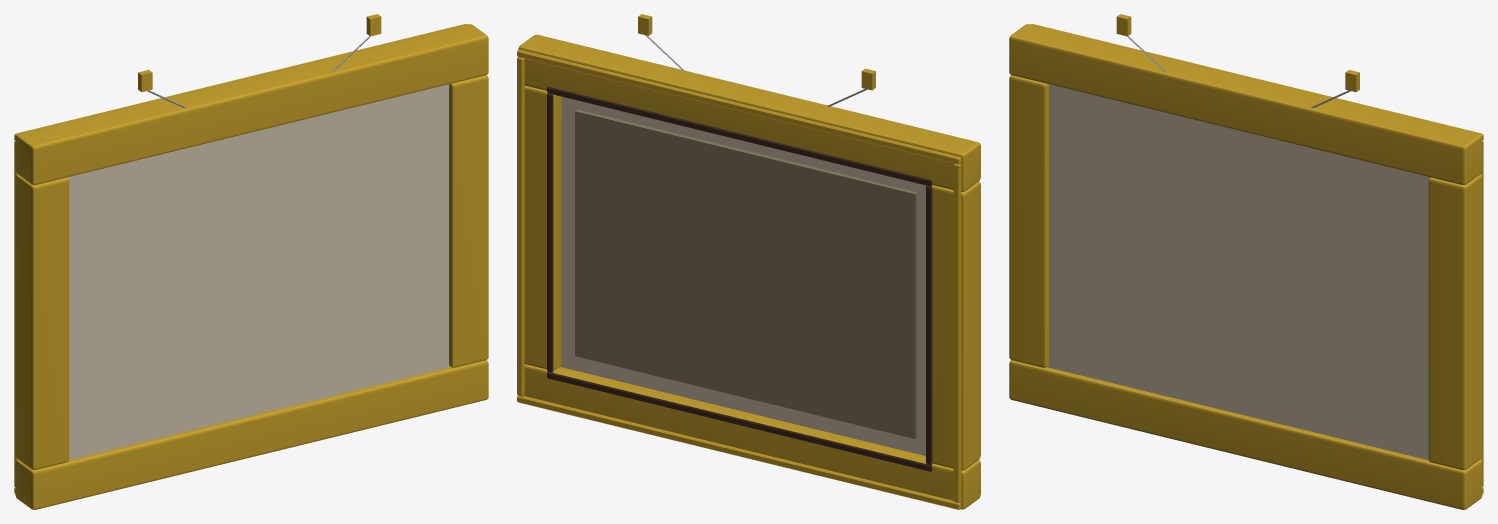
File: prop_canvas_study3.glb
The picture shows the model from 3 angles, left to right: view 1: azimuth 30°, elevation 25°; view 2: azimuth 150°, elevation 25°; view 3: azimuth 330°, elevation 25°; orthographic projection. The views are drawn at different scales.
Parts seen in each view (by area): view 1: Canvas, Hooks; view 2: Canvas, Paint, Hooks; view 3: Canvas, Hooks.
Boxes of the visible parts, x1,y1,x2,y2 form: Canvas: (14,24,488,509); Hooks: (138,14,381,107); Canvas: (517,34,980,509); Paint: (575,109,917,439); Hooks: (638,14,875,106); Canvas: (1009,24,1483,509); Hooks: (1116,14,1359,107).
Bounding box in the file's own units: 0.84 × 0.72 × 0.068.
